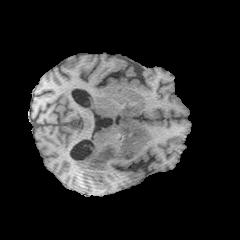glioma: (70, 102, 148, 178)
